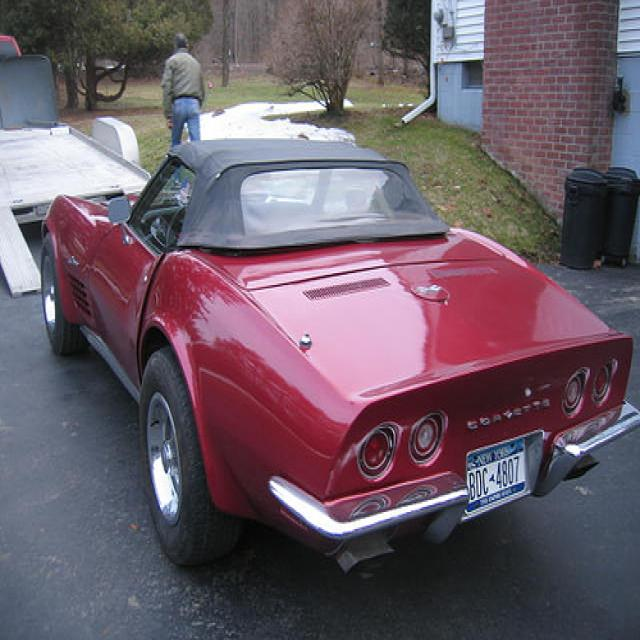light_vehicle: (32, 132, 634, 575)
